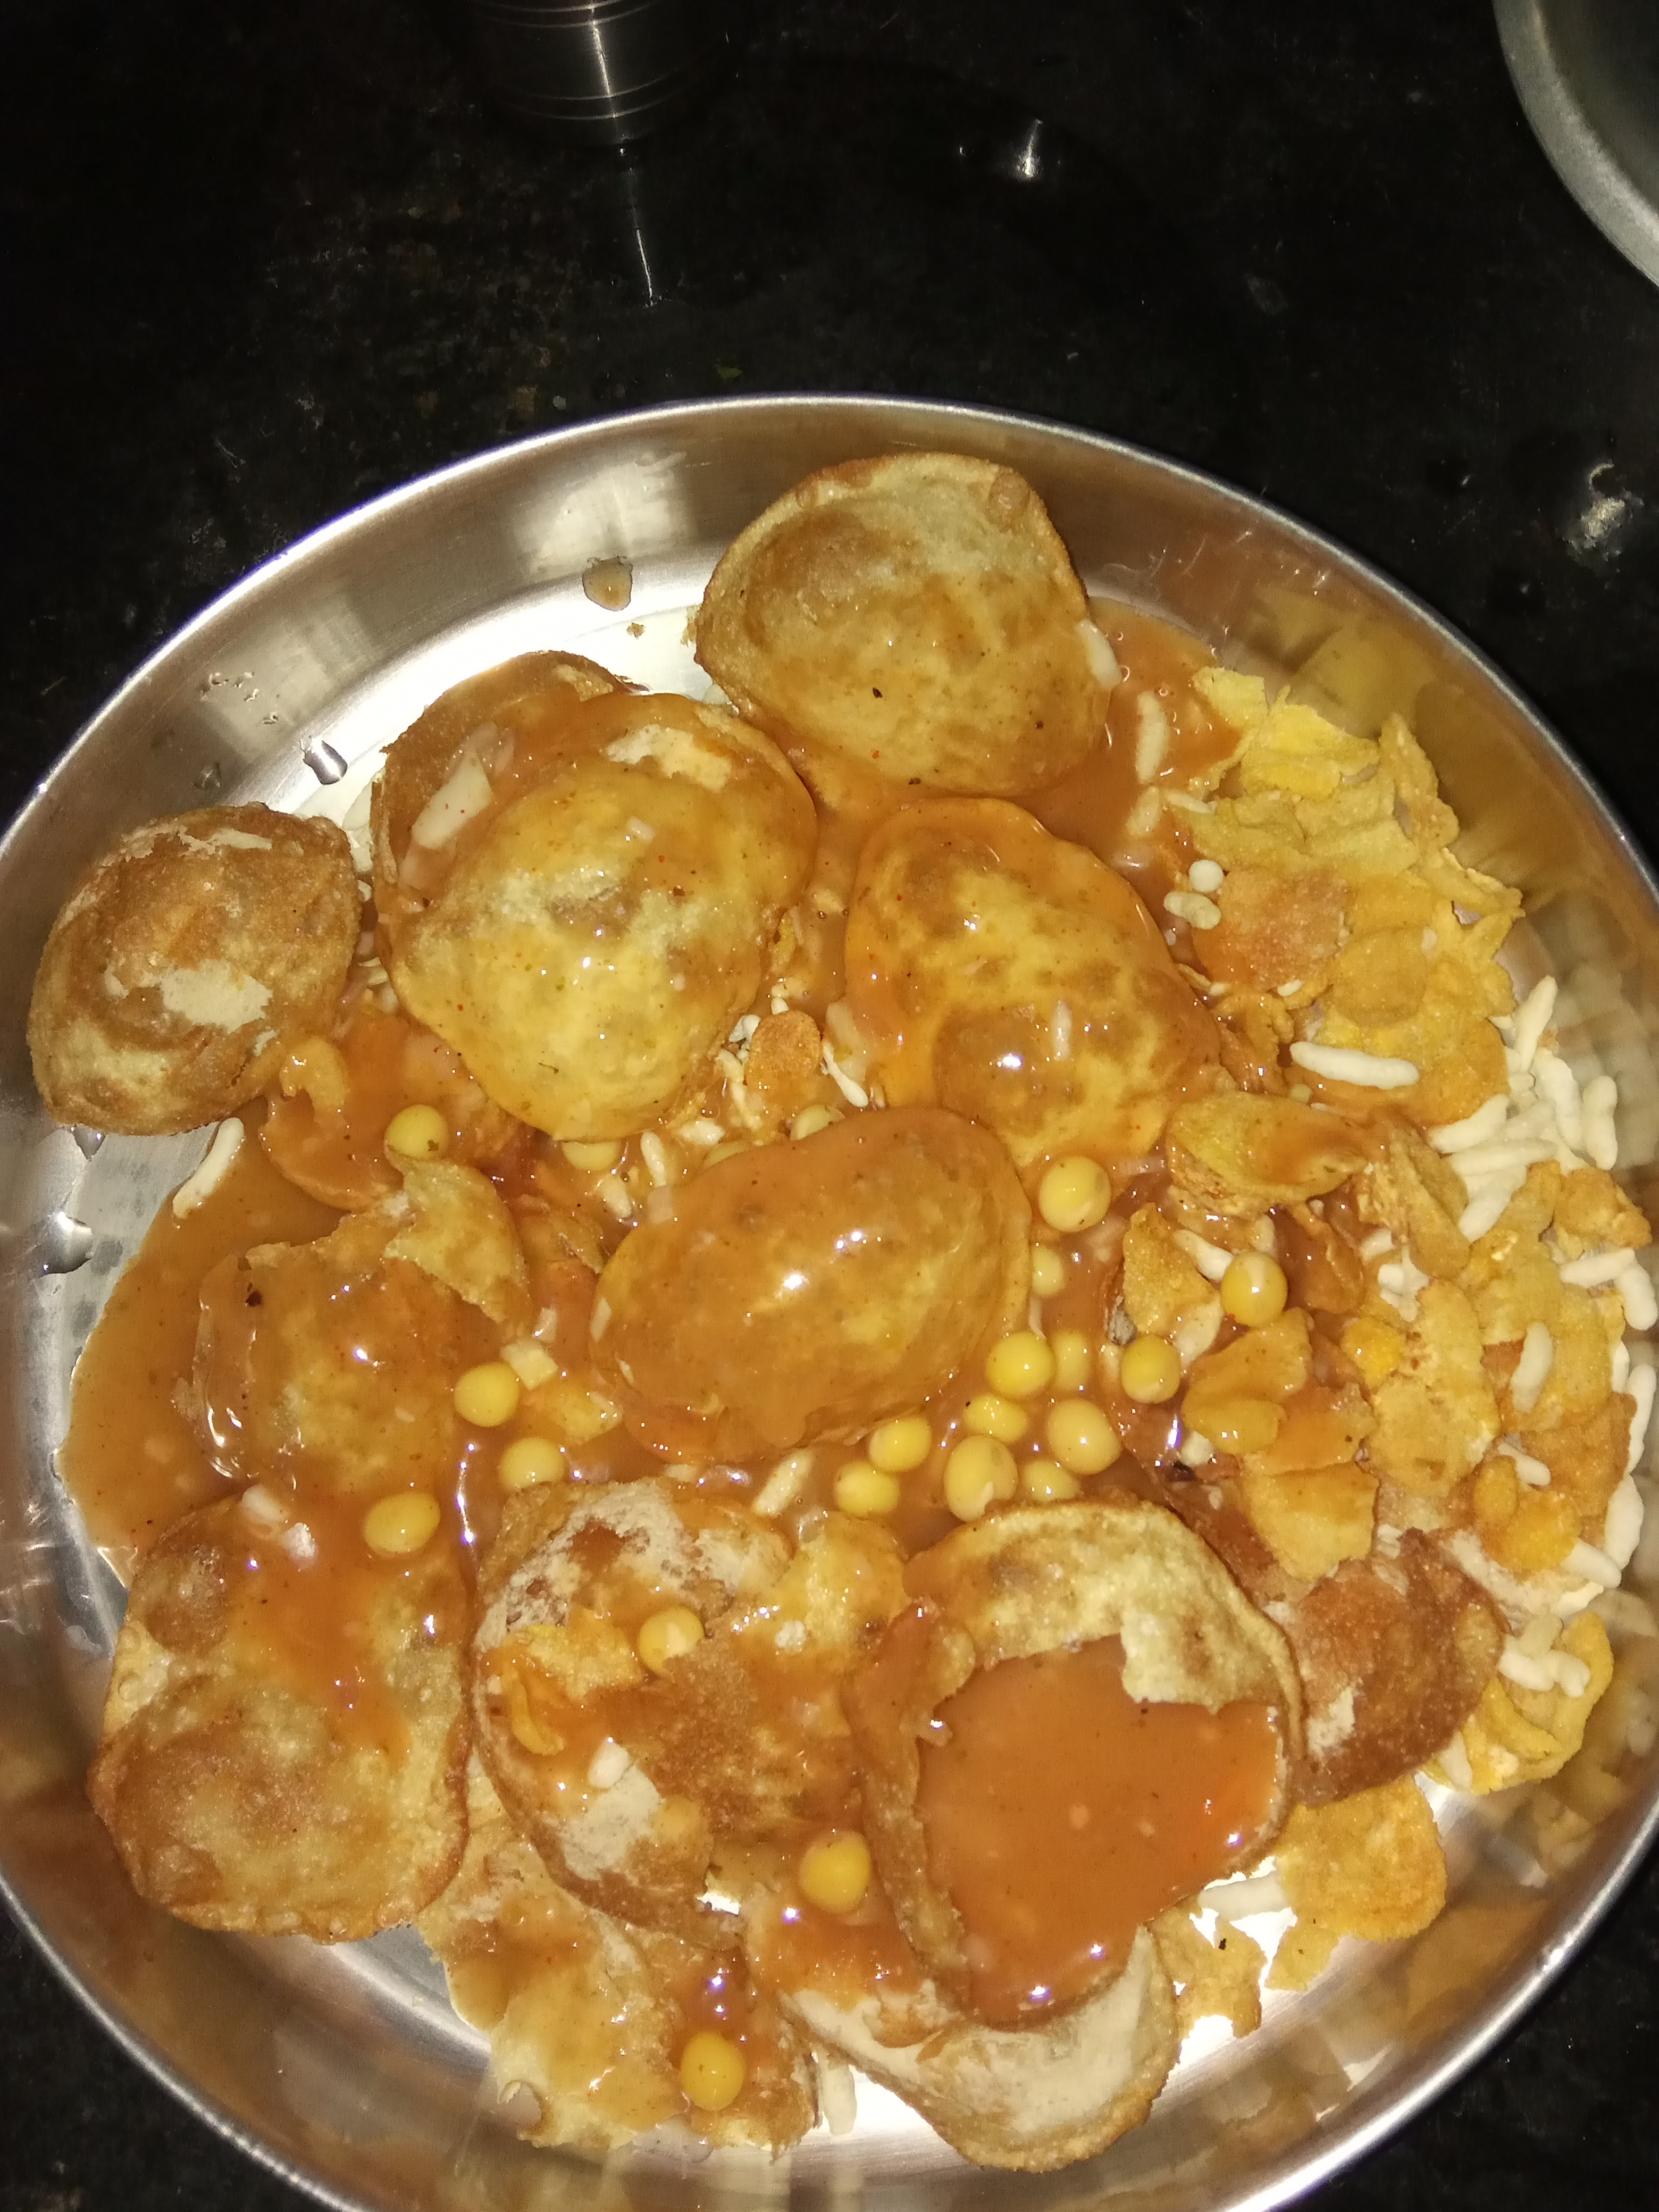food: (0, 425, 1659, 2212)
